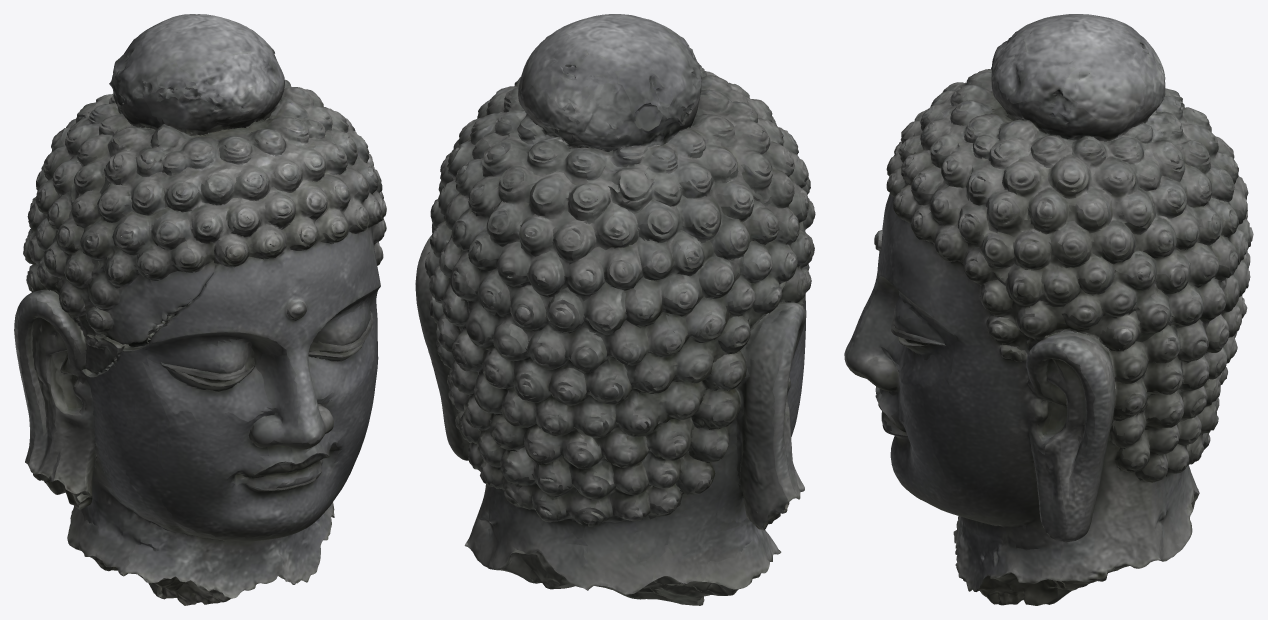
File: v33-buddha.glb
The picture shows the model from 3 angles, left to right: view 1: azimuth 30°, elevation 25°; view 2: azimuth 150°, elevation 25°; view 3: azimuth 270°, elevation 25°; orthographic projection. The views are drawn at different scales.
Visible parts, largest first — view 1: BuddhaHead; view 2: BuddhaHead; view 3: BuddhaHead.
Part boxes in pixels (left/top/right/bottom): BuddhaHead: left=14, top=14, right=386, bottom=605; BuddhaHead: left=415, top=14, right=815, bottom=605; BuddhaHead: left=844, top=14, right=1253, bottom=605.
Size of the model in its own units: 0.3017 by 0.45 by 0.3015.
Materials: 1 (1 with a texture image).
